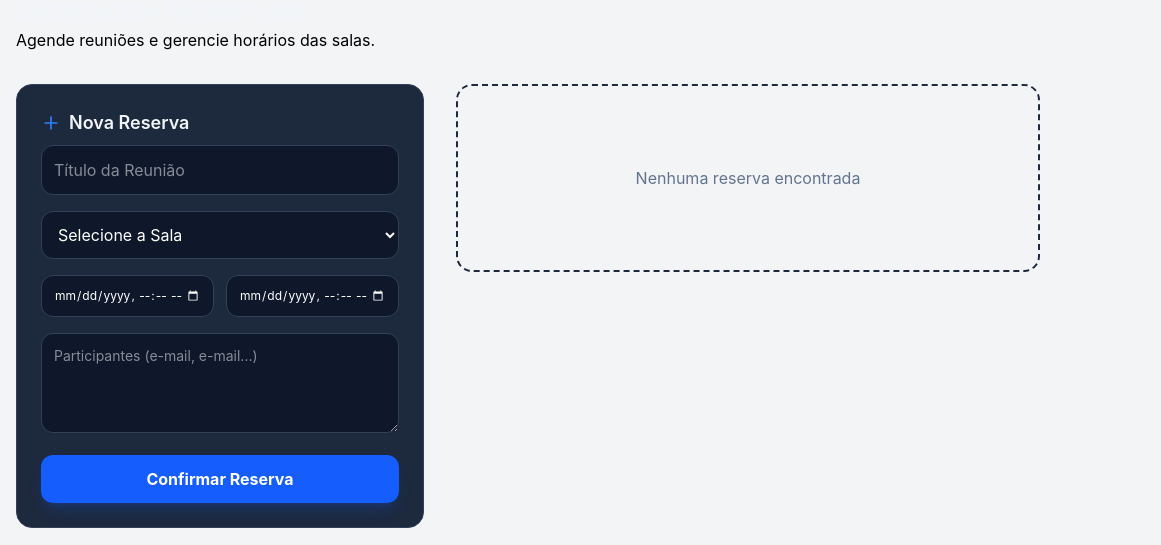
Test case: Testes da Tela de Reservas › Deve exibir erro de conflito se a sala já estiver ocupada
Type "Reunião Duplicada" into the field with placeholder "Título da Reunião" at (220, 170), box x1=41 y1=145 x2=399 y2=195
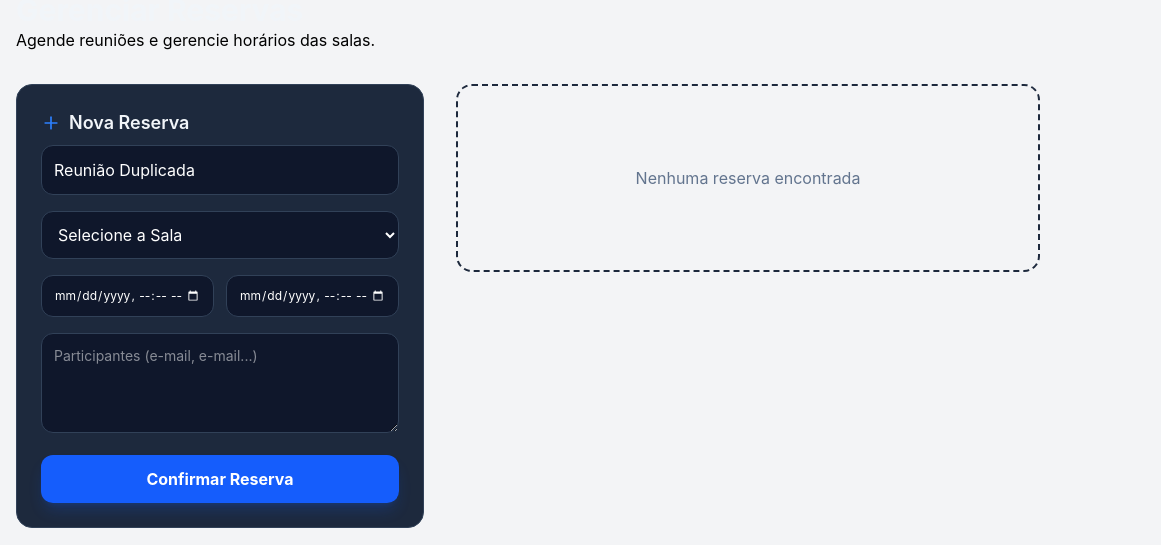
Select "Sala 1" in the dropdown at (220, 235), box x1=41 y1=211 x2=399 y2=259
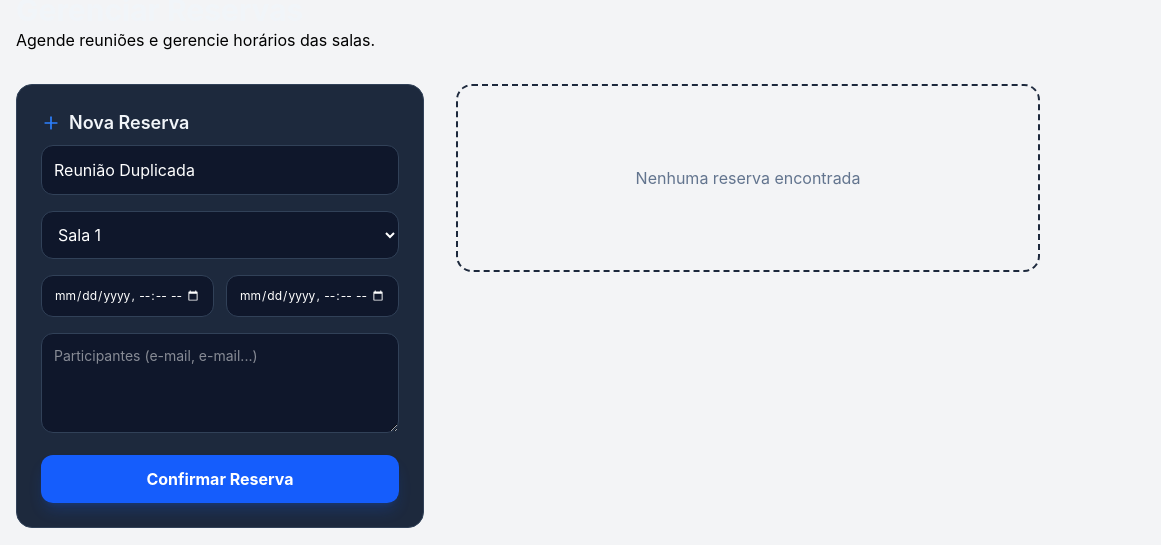
Type "2026-04-16T14:00" into the 2nd field at (128, 296), box x1=41 y1=275 x2=214 y2=317
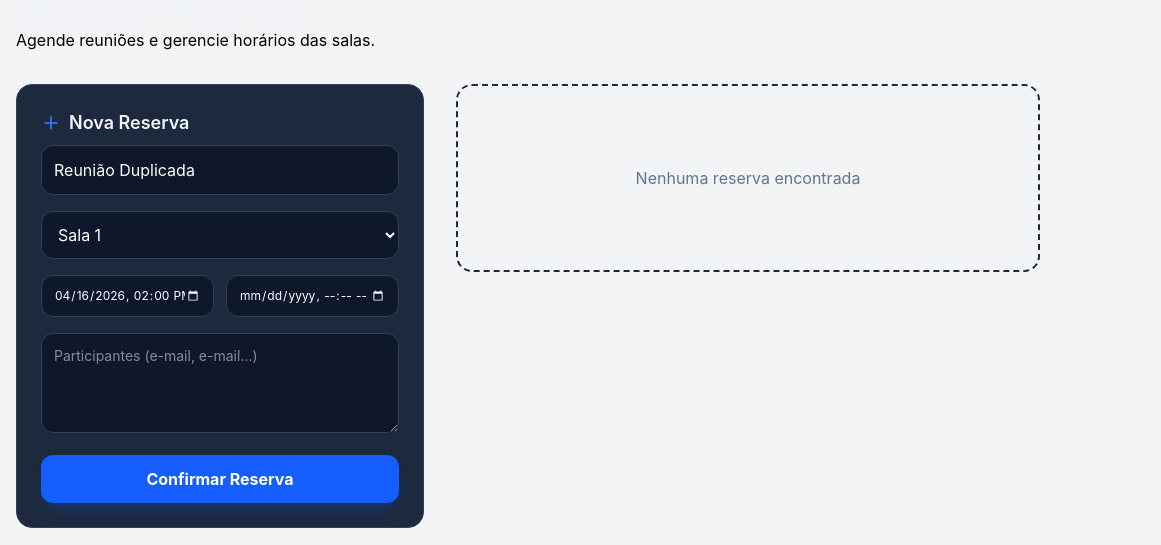
Type "2026-04-16T15:00" into the 3rd field at (312, 296), box x1=226 y1=275 x2=399 y2=317
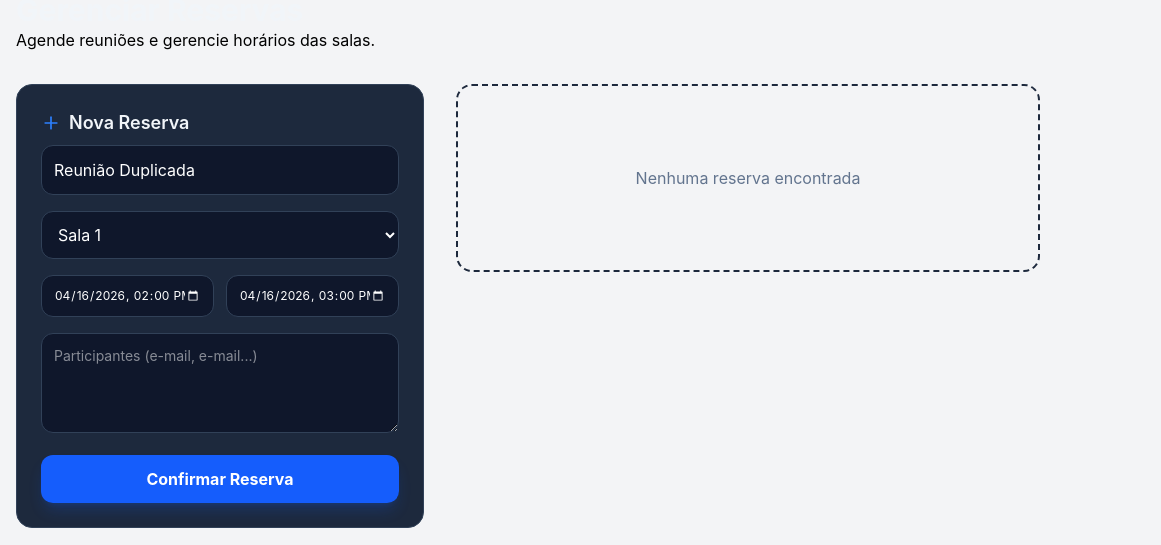
Type "maria@teste.com" into the text box with placeholder "Participantes (e-mail, e-mail...)" at (220, 383), box x1=41 y1=333 x2=399 y2=433
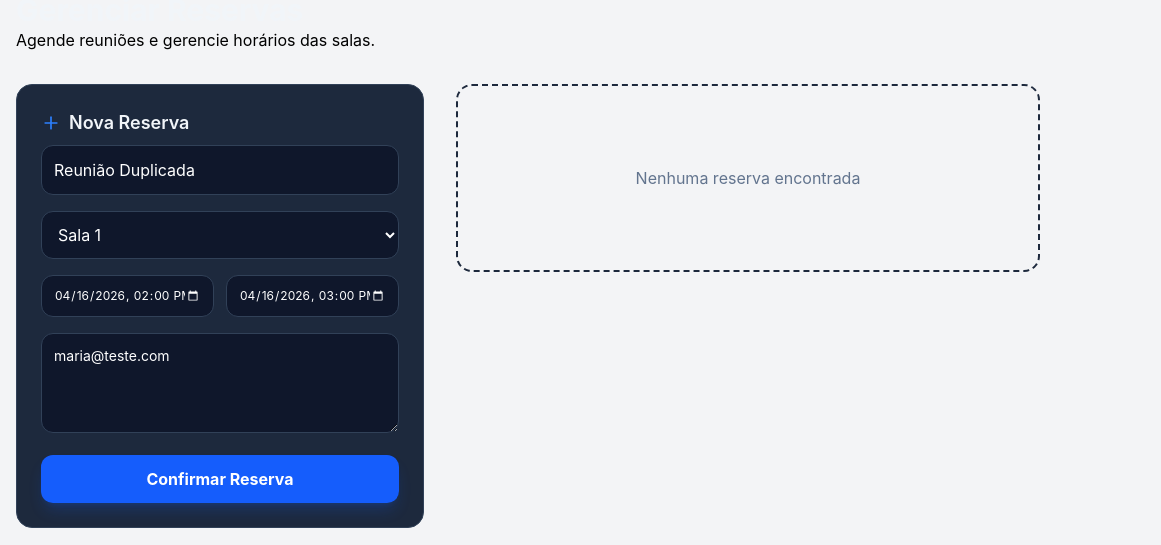
Click the button "Confirmar Reserva" at (220, 479), box x1=41 y1=455 x2=399 y2=503
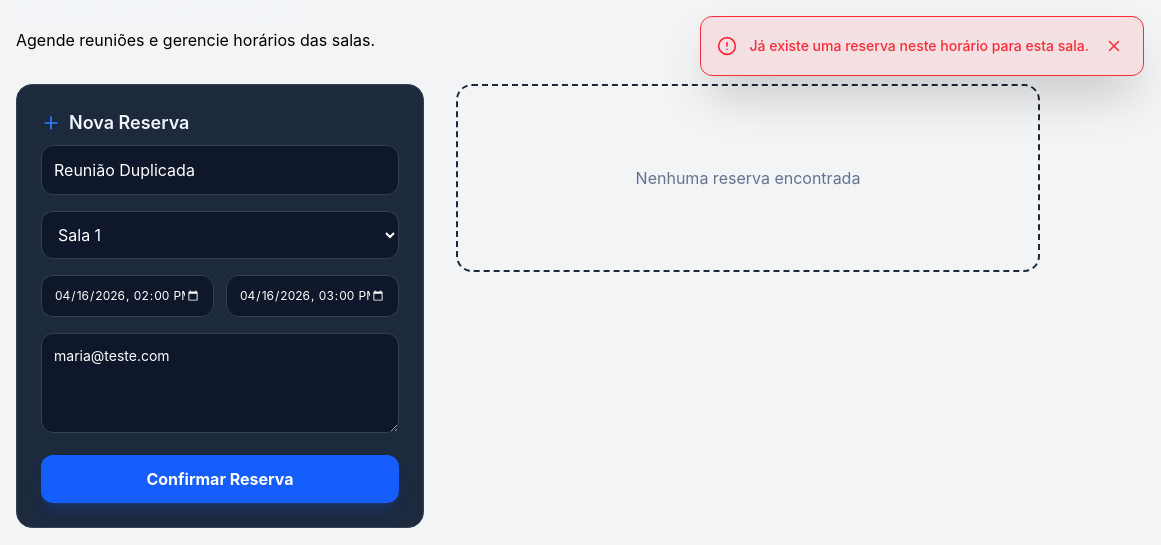
Result: the text "Já existe uma reserva neste horário para esta sala." is shown at x1=750 y1=36 x2=1089 y2=56
